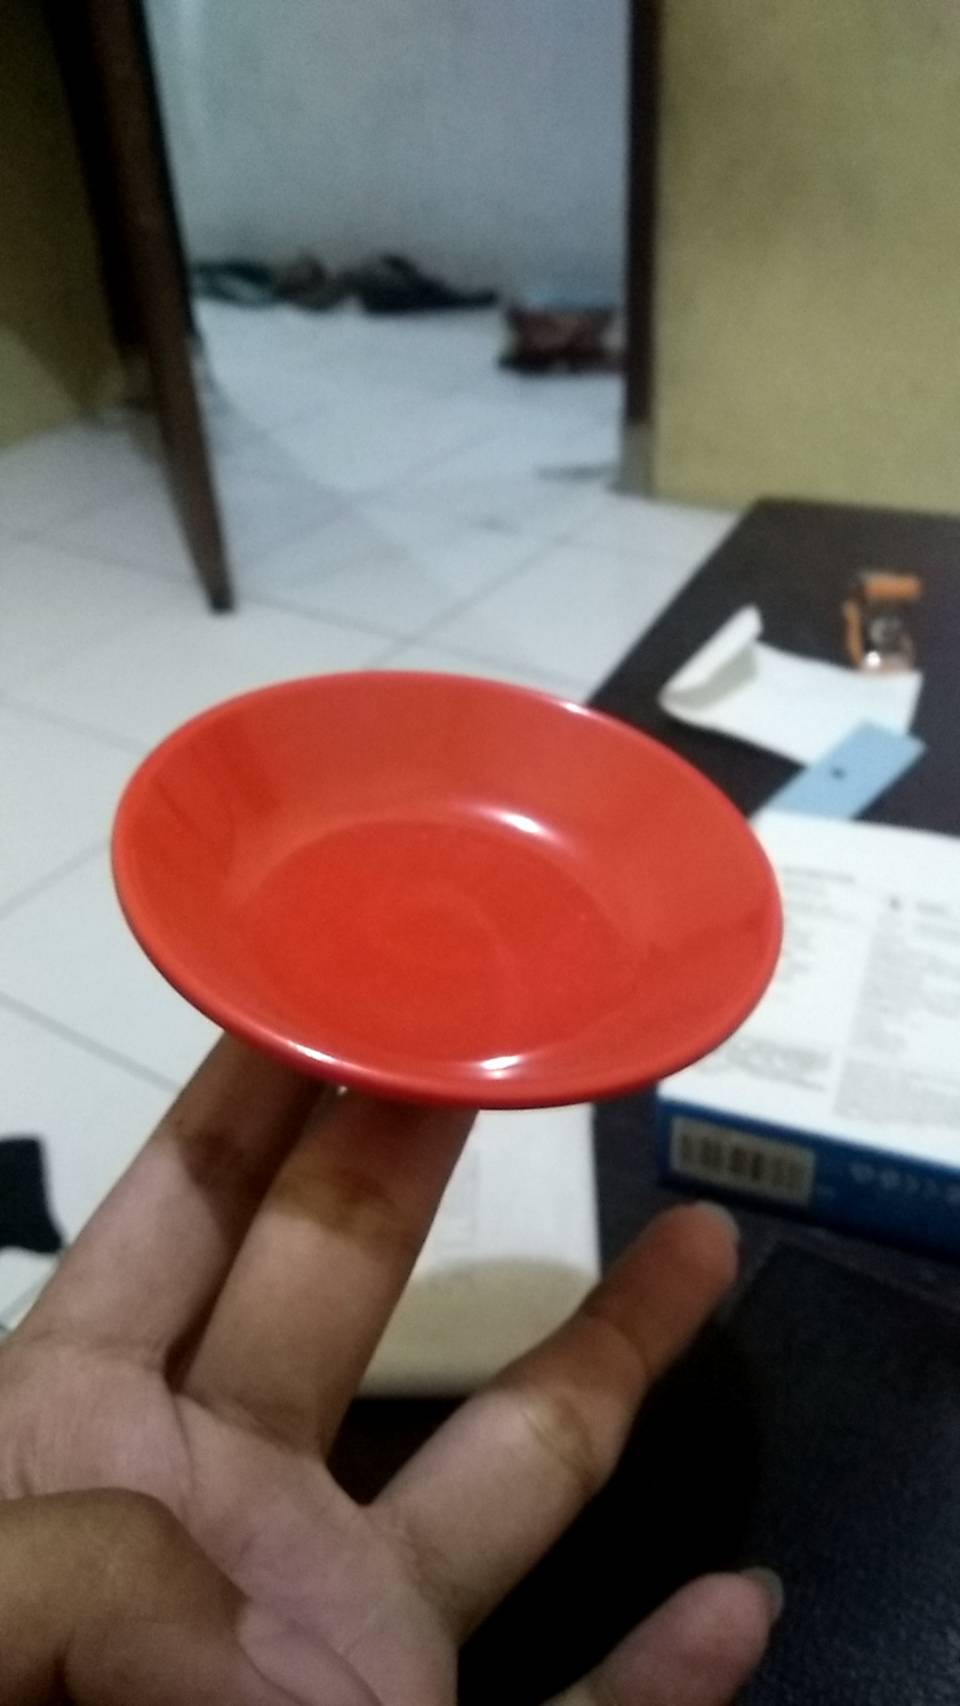piring: (101, 673, 789, 1118)
